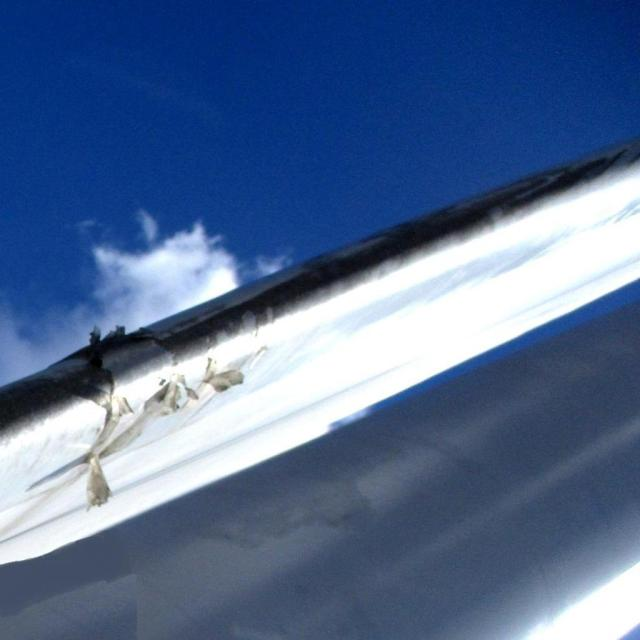crack: (30, 312, 262, 509)
